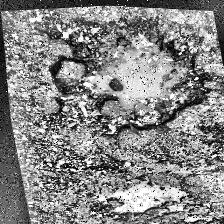pothole: (45, 8, 212, 148), (86, 168, 200, 224)
